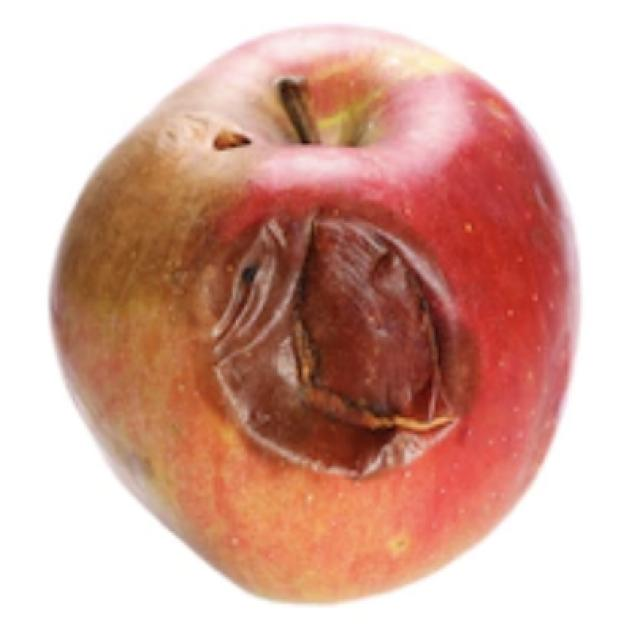rotten_apple: (55, 27, 580, 608)
